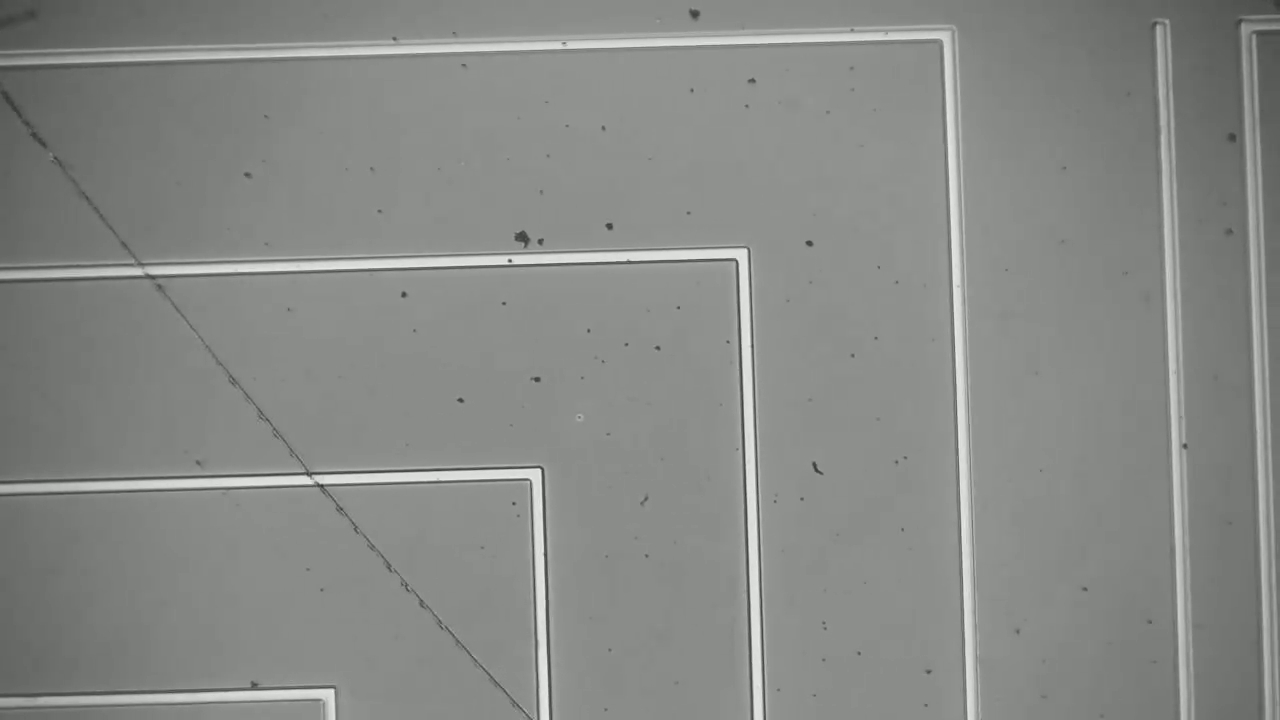scratch: (22, 104, 544, 720)
